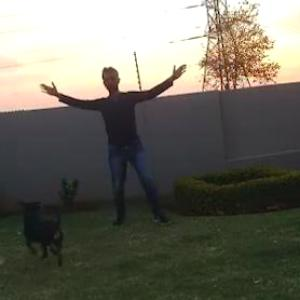takeoff: (54, 57, 208, 232)
